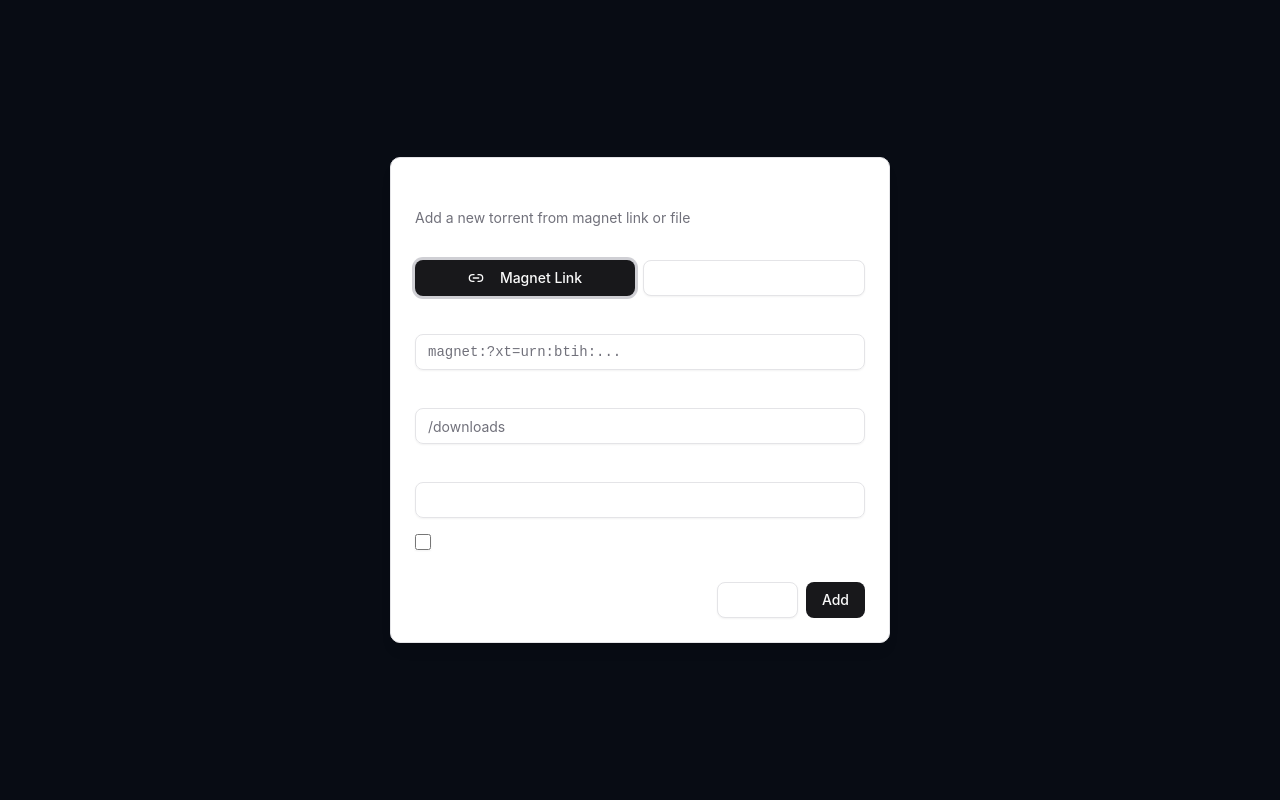
Test: AddTorrentModal Component › Tab Switching › switches to file tab when file tab button is clicked
The image size is (1280, 800).
What coordinates should you click on to do the following:
click the button "Torrent File"
I would click on:
 (754, 278)
Its box is left=643, top=260, right=865, bottom=296.
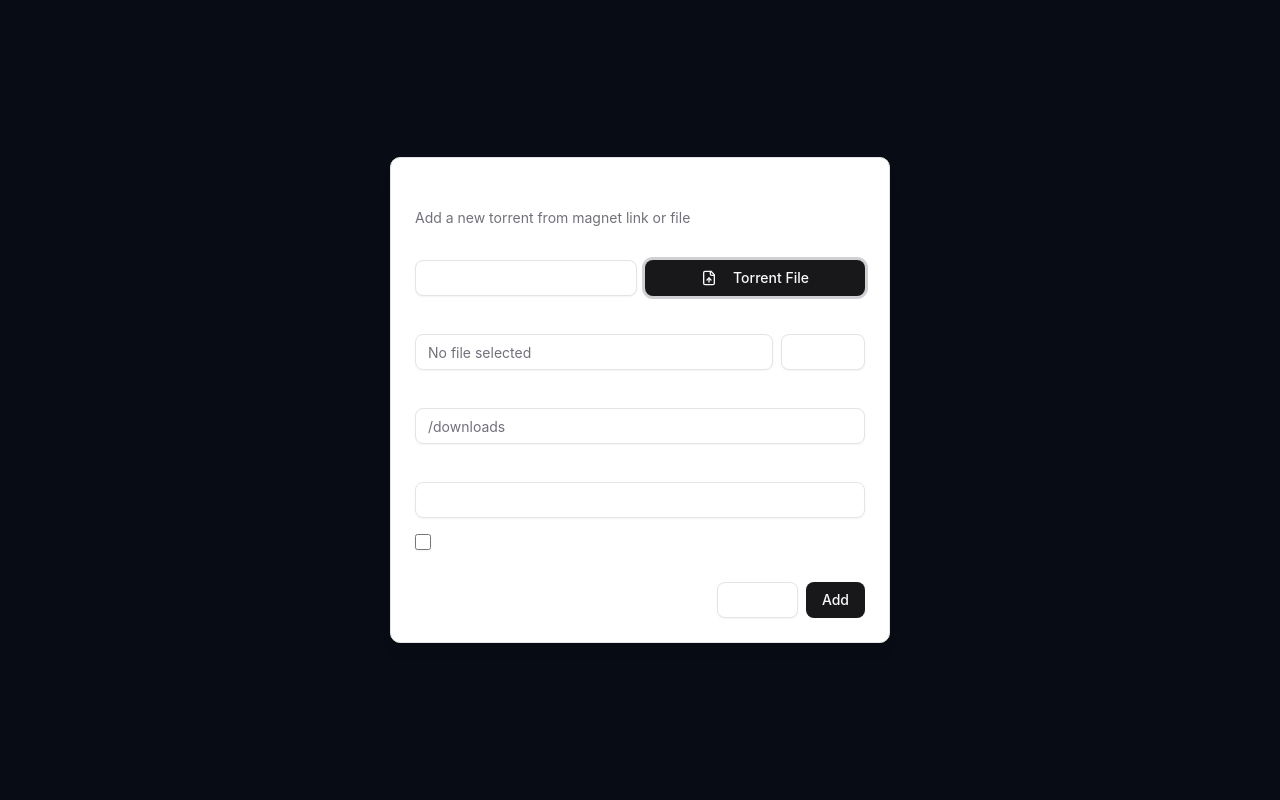
Result: the field with placeholder "No file selected" is shown at left=415, top=334, right=773, bottom=370
Result: the button "Browse" is shown at left=781, top=334, right=865, bottom=370
